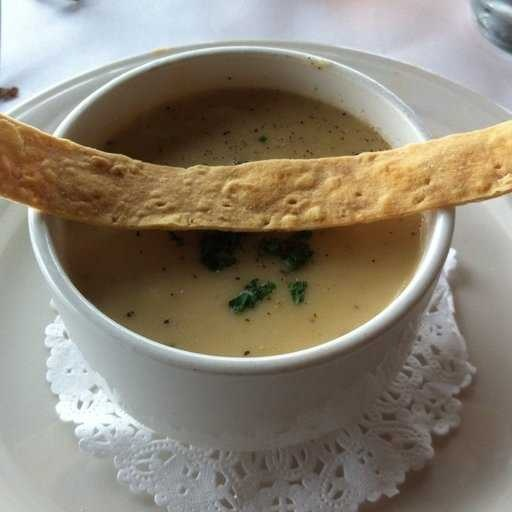soup: (55, 96, 428, 351)
